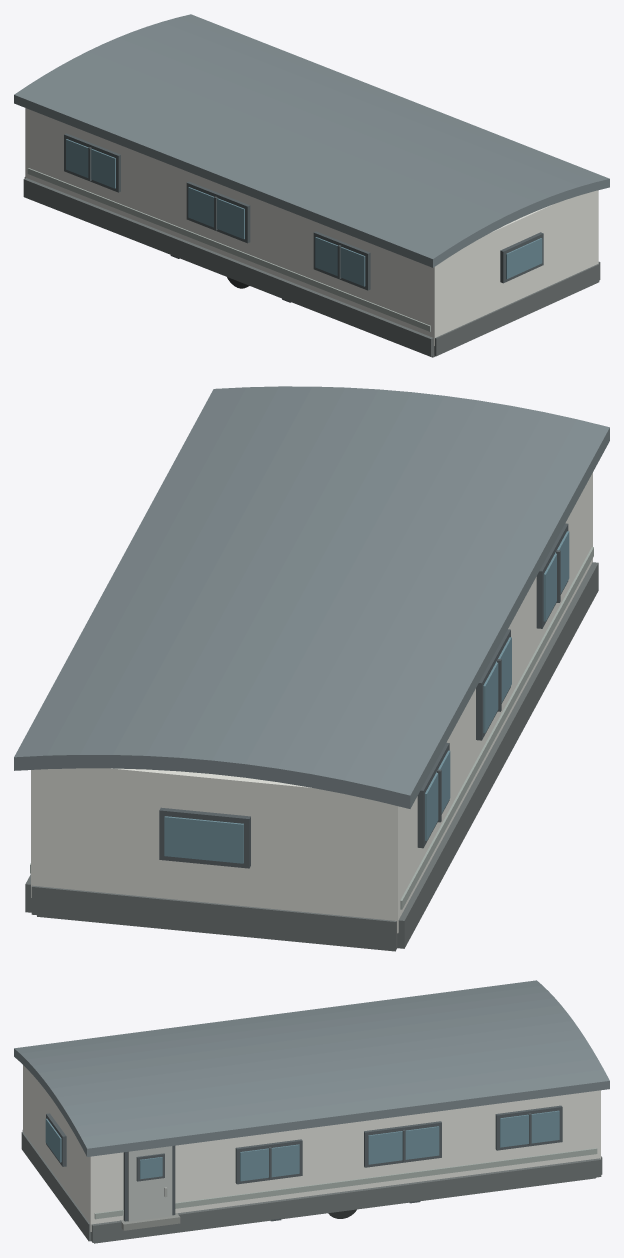
3 renders of one model, top to bottom at view 1: azimuth 30°, elevation 25°; view 2: azimuth 150°, elevation 25°; view 3: azimuth 270°, elevation 25°, orthographic. The views are drawn at different scales.
Visible parts, largest first — view 1: shallow_crowned_roof, main_caravan_body, lower_side_skirt_negative, lower_end_skirt_positive, side_stripe_negative, negative_side_window_2_glass, negative_side_window_3_glass, negative_side_window_1_glass, front_end_window_glass, negative_side_window_2_frame, negative_side_window_3_frame, negative_side_window_1_frame (+1 smaller); view 2: shallow_crowned_roof, main_caravan_body, lower_end_skirt_negative, lower_side_skirt_negative, rear_end_window_glass, side_stripe_negative, rear_end_window_frame, negative_side_window_2_glass, negative_side_window_3_glass, negative_side_window_1_glass, negative_side_window_2_frame, negative_side_window_3_frame (+2 smaller); view 3: shallow_crowned_roof, main_caravan_body, lower_side_skirt_positive, side_stripe_positive, entrance_door_panel, positive_side_window_2_glass, positive_side_window_3_glass, positive_side_window_1_glass, lower_end_skirt_positive, positive_side_window_2_frame, positive_side_window_1_frame, positive_side_window_3_frame (+6 smaller).
Boxes of the visible parts, box(x1,y1,x2,y2) form: shallow_crowned_roof: box(14, 14, 609, 267); main_caravan_body: box(25, 108, 598, 345); lower_side_skirt_negative: box(23, 178, 434, 356); lower_end_skirt_positive: box(434, 264, 599, 356); side_stripe_negative: box(27, 168, 430, 331); negative_side_window_2_glass: box(188, 187, 244, 239); negative_side_window_3_glass: box(315, 237, 365, 286); negative_side_window_1_glass: box(66, 139, 115, 188); front_end_window_glass: box(506, 238, 542, 279); negative_side_window_2_frame: box(186, 181, 250, 243); negative_side_window_3_frame: box(313, 231, 370, 290); negative_side_window_1_frame: box(64, 133, 120, 192); shallow_crowned_roof: box(14, 386, 609, 808); main_caravan_body: box(31, 473, 592, 933); lower_end_skirt_negative: box(31, 885, 397, 949); lower_side_skirt_negative: box(397, 562, 598, 948); rear_end_window_glass: box(164, 816, 243, 863); side_stripe_negative: box(400, 547, 593, 909); rear_end_window_frame: box(159, 807, 250, 868); negative_side_window_2_glass: box(483, 637, 511, 733); negative_side_window_3_glass: box(543, 531, 569, 621); negative_side_window_1_glass: box(425, 750, 450, 840); negative_side_window_2_frame: box(476, 629, 510, 740); negative_side_window_3_frame: box(536, 523, 568, 628); shallow_crowned_roof: box(14, 980, 609, 1156); main_caravan_body: box(23, 1065, 600, 1231); lower_side_skirt_positive: box(91, 1158, 601, 1242); side_stripe_positive: box(94, 1148, 597, 1219); entrance_door_panel: box(128, 1146, 172, 1221); positive_side_window_2_glass: box(368, 1126, 439, 1164); positive_side_window_3_glass: box(240, 1144, 299, 1181); positive_side_window_1_glass: box(500, 1110, 559, 1147); lower_end_skirt_positive: box(21, 1132, 91, 1241); positive_side_window_2_frame: box(364, 1121, 441, 1167); positive_side_window_1_frame: box(495, 1105, 562, 1150); positive_side_window_3_frame: box(235, 1139, 302, 1184).
Size of the model in its own units: 7.4 by 2.5 by 11.07.
